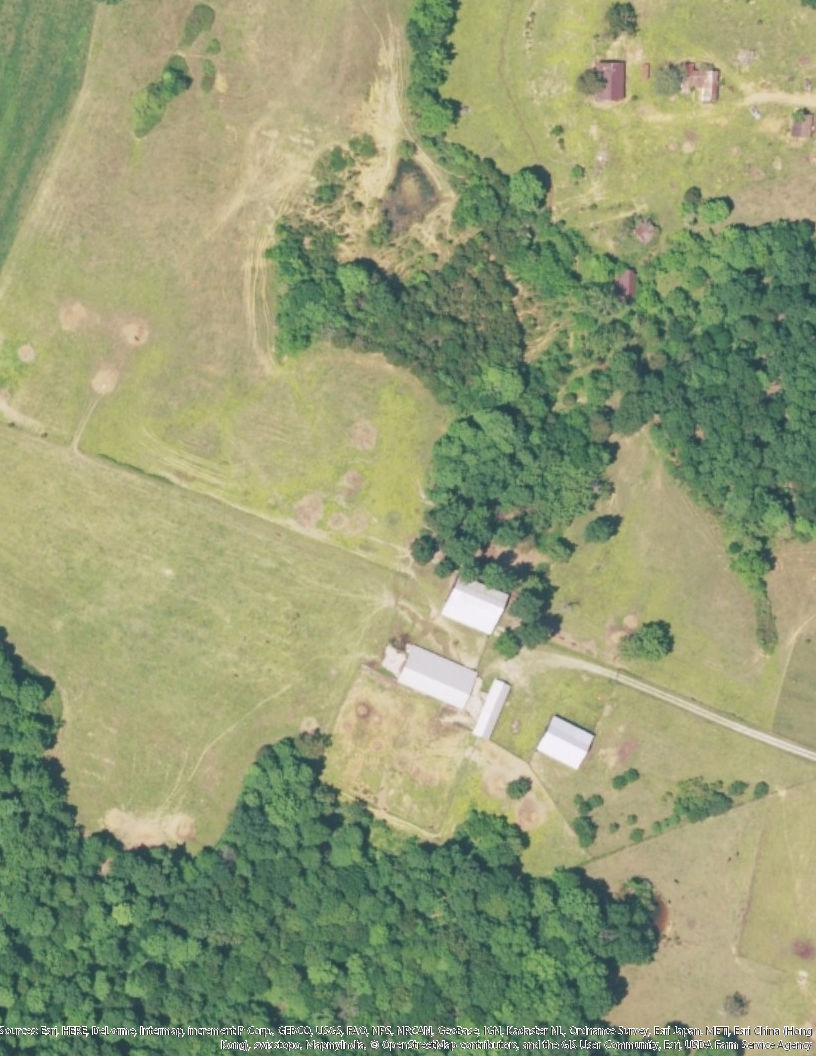cafo: (379, 640, 481, 715), (439, 566, 513, 639), (533, 712, 598, 773), (468, 676, 515, 743)
